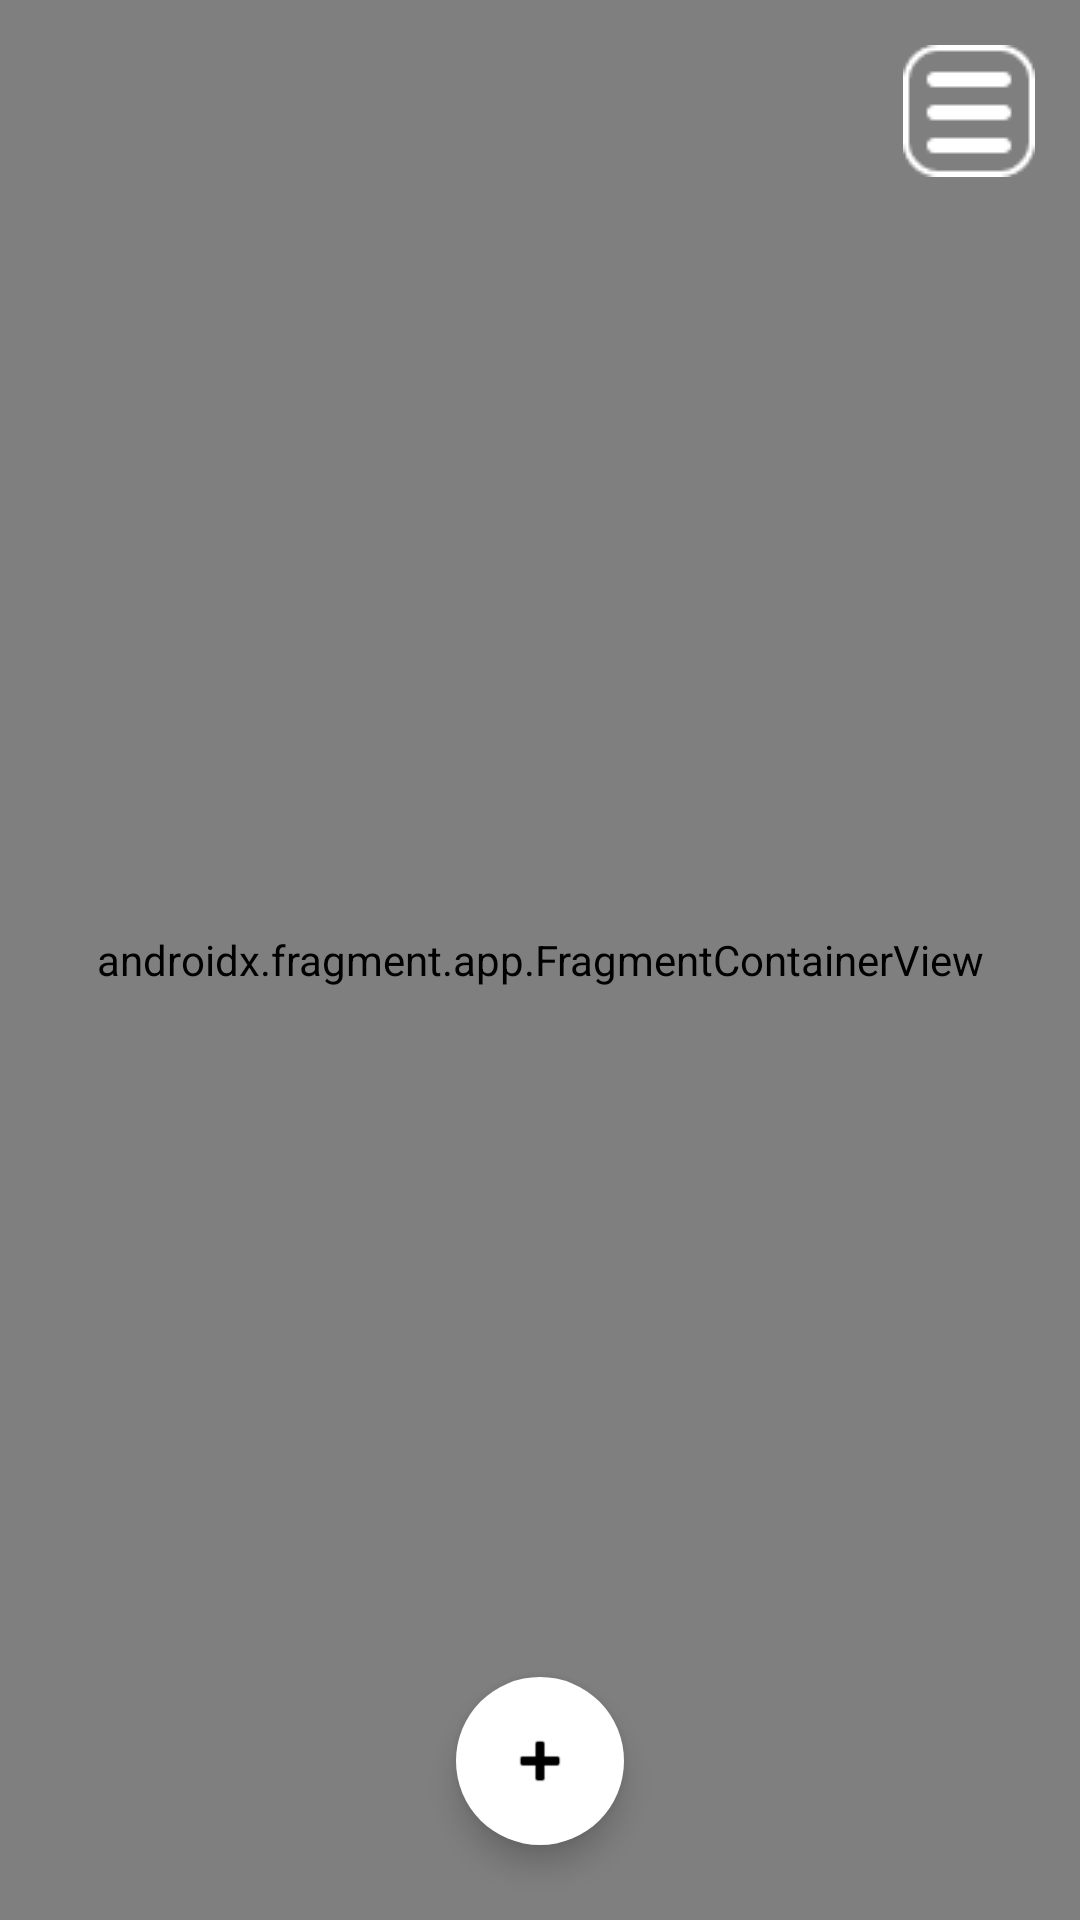

Where icons sit on this 1080w x 1920h app screen, as (x1, y1, x2, y2):
add: (456, 1677, 624, 1845)
listbutton: (903, 45, 1035, 177)
